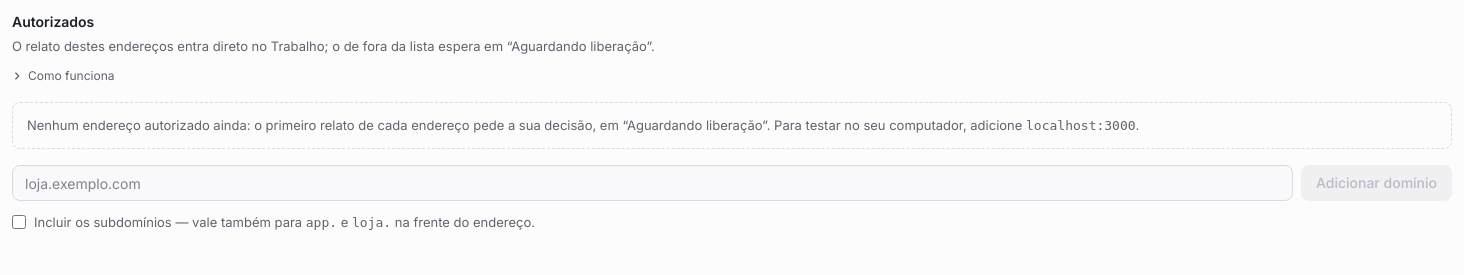
Test: AllowedOriginsSection › põe a recusa da API no próprio campo, que é onde há o que corrigir
Type "loja.com" into the field named "Endereço do seu sistema" at (652, 183), box [12, 165, 1293, 201]
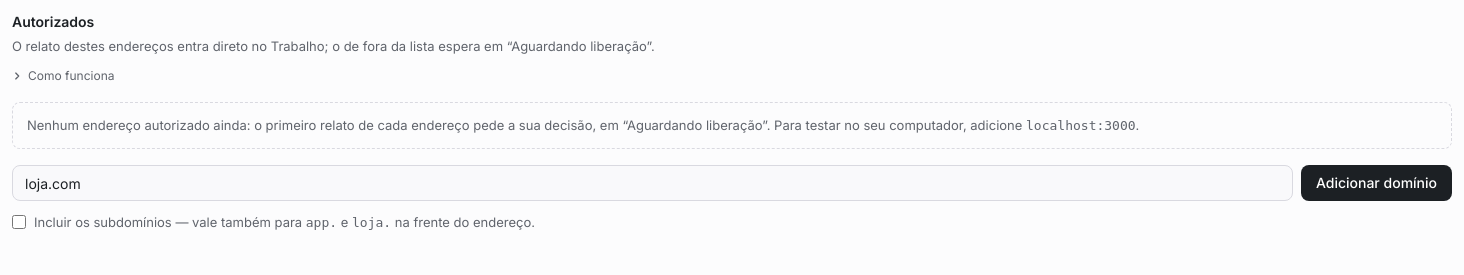
Click the button "Adicionar domínio" at (1376, 183), box [1301, 165, 1452, 201]
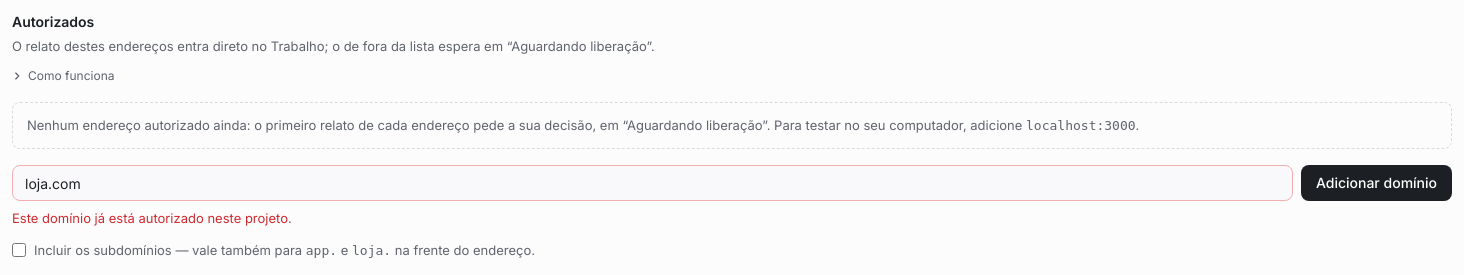
Now the text "Este domínio já está autorizado neste projeto." is shown, box [12, 210, 292, 226]
